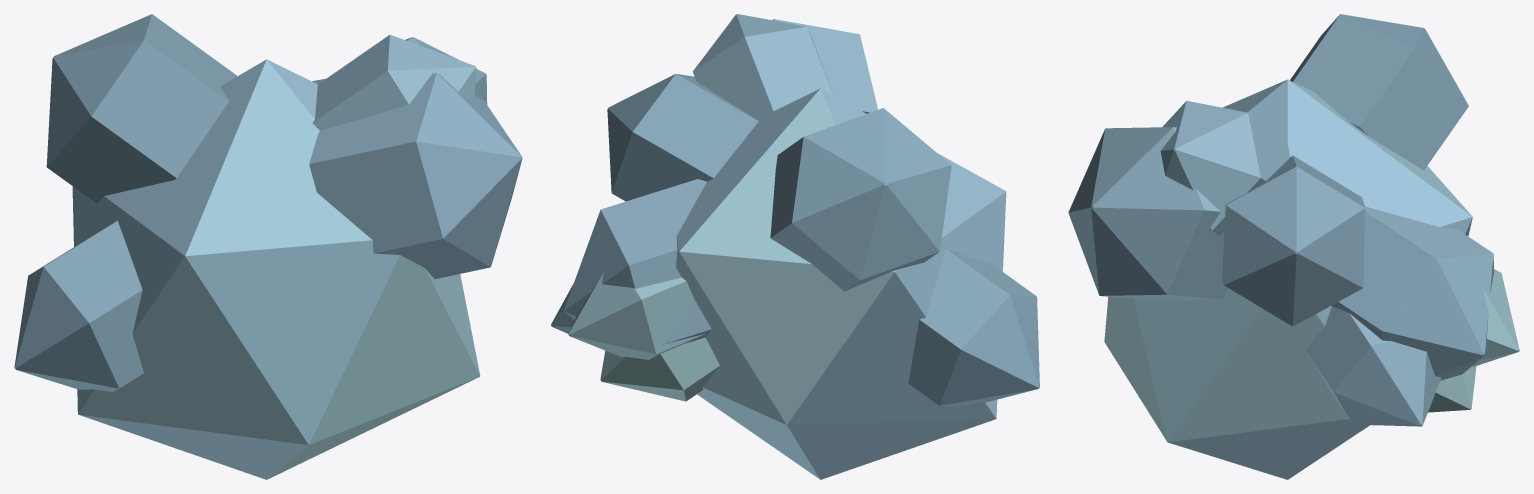
Rendered from frost_crystal.glb.
3 views of the same model, side by side, from view 1: azimuth 30°, elevation 25°; view 2: azimuth 150°, elevation 25°; view 3: azimuth 270°, elevation 25° (orthographic). The views are drawn at different scales.
Visible parts, largest first — view 1: Mesh; view 2: Mesh; view 3: Mesh.
Part boxes in pixels (<box>): Mesh: <box>14,14,522,479</box>; Mesh: <box>551,14,1039,479</box>; Mesh: <box>1068,14,1519,479</box>.
Bounding box in the file's own units: 0.423 × 0.3831 × 0.3715.
